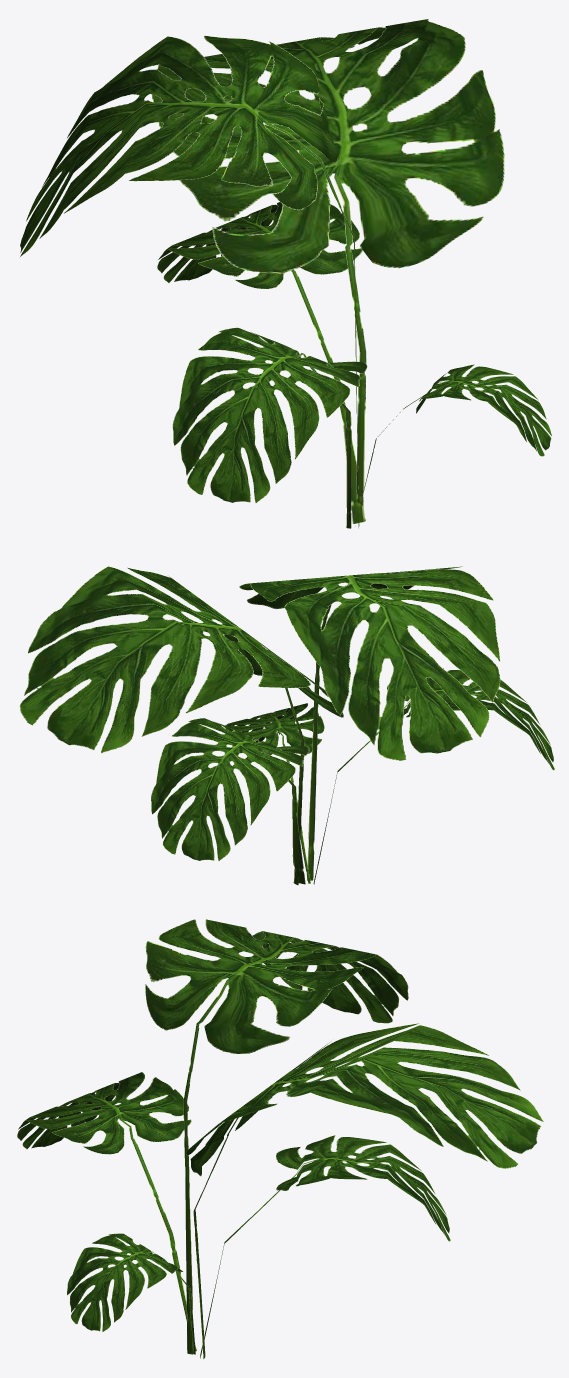
Rendered from plant-02.glb.
The picture shows the model from 3 angles, top to bottom: view 1: azimuth 30°, elevation 25°; view 2: azimuth 150°, elevation 25°; view 3: azimuth 270°, elevation 25°; orthographic projection. The views are drawn at different scales.
Visible parts, largest first — view 1: Plant_02_Art; view 2: Plant_02_Art; view 3: Plant_02_Art.
Boxes of the visible parts, x1,y1,x2,y2 form: Plant_02_Art: [20, 19, 551, 528]; Plant_02_Art: [19, 566, 554, 884]; Plant_02_Art: [17, 919, 543, 1359].
Bounding box in the file's own units: 3.12 × 2.6 × 3.45.
1 material, 1 textured.
